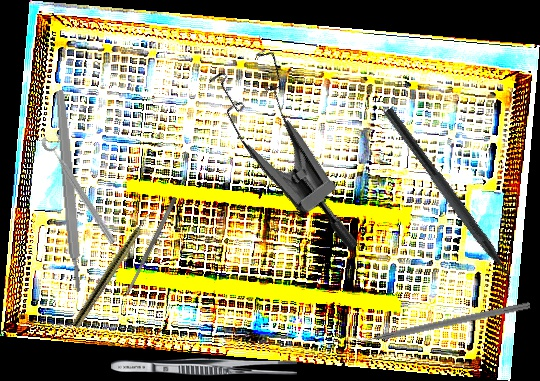Chopper: (371, 106, 527, 302), (349, 292, 531, 347)
Dressing Forceps: (111, 357, 297, 376)
Fixation Ring: (39, 129, 125, 247)
Handpiece: (71, 205, 157, 330)
Scalpel Handle: (54, 89, 84, 293)
Spatula Surgical: (123, 196, 179, 296)
Speculum: (181, 32, 418, 254)
